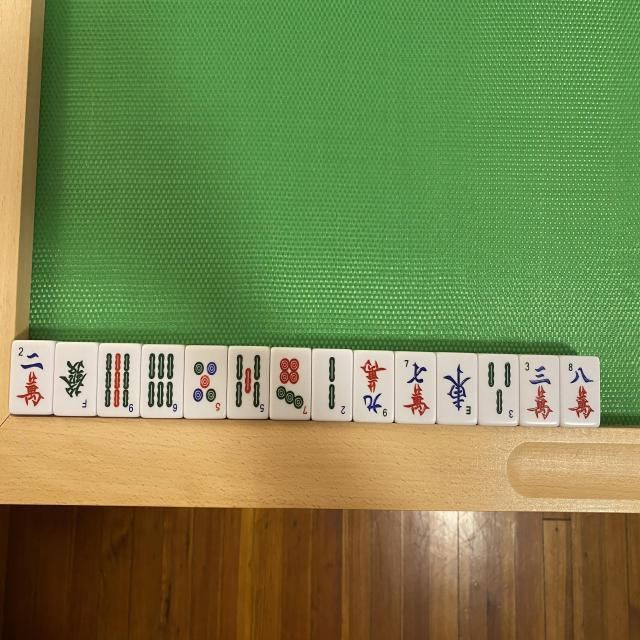hdg: (56, 344, 97, 416)
hwe: (436, 352, 476, 422)
sb2: (315, 350, 353, 420)
sb3: (480, 356, 519, 425)
sb5: (228, 349, 267, 419)
sb6: (141, 348, 182, 420)
sb9: (102, 344, 142, 416)
sc2: (10, 342, 50, 416)
sc3: (523, 356, 562, 424)
sc7: (398, 351, 436, 421)
sc8: (560, 358, 600, 426)
sc9: (354, 353, 392, 422)
sd5: (187, 350, 227, 420)
sd7: (270, 351, 310, 421)
